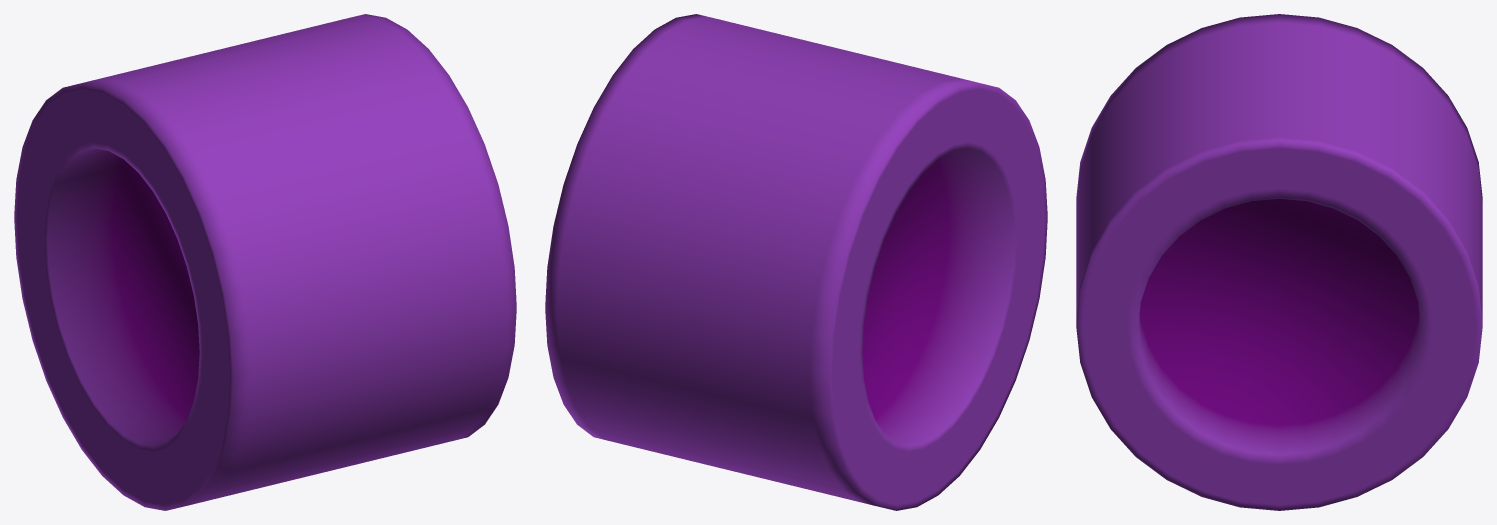
Rendered from фиолетовый кругляш.fbx.
The picture shows the model from 3 angles, left to right: view 1: azimuth 30°, elevation 25°; view 2: azimuth 150°, elevation 25°; view 3: azimuth 270°, elevation 25°; orthographic projection. The views are drawn at different scales.
Visible parts, largest first — view 1: Cylinder.005; view 2: Cylinder.005; view 3: Cylinder.005.
Part boxes in pixels (x1,y1,x2,y2): Cylinder.005: (14, 14, 516, 510); Cylinder.005: (545, 14, 1047, 510); Cylinder.005: (1076, 14, 1482, 510).
Bounding box in the file's own units: 108 × 144 × 144.
